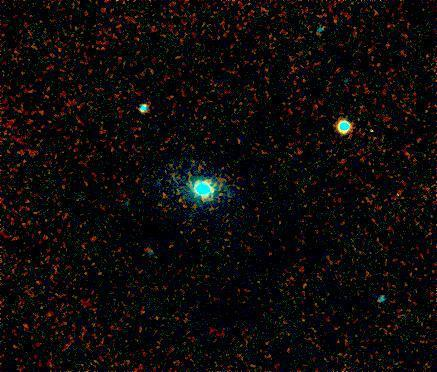star: (151, 180, 181, 210)
